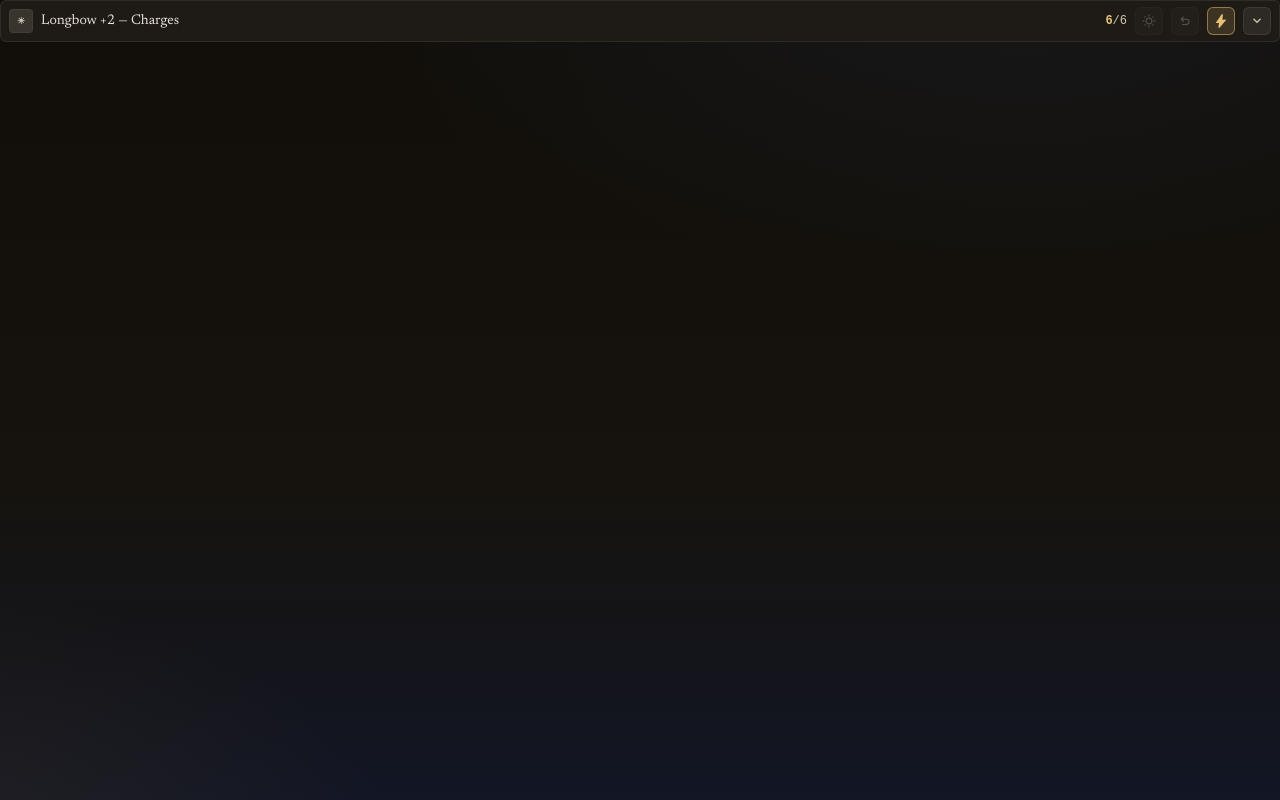
Test: CompactResourceRow with an item spell › shows the item DC alongside the character's own
Step 1. Click the button named "toggle details" → (1257, 21), box [1243, 7, 1271, 35]
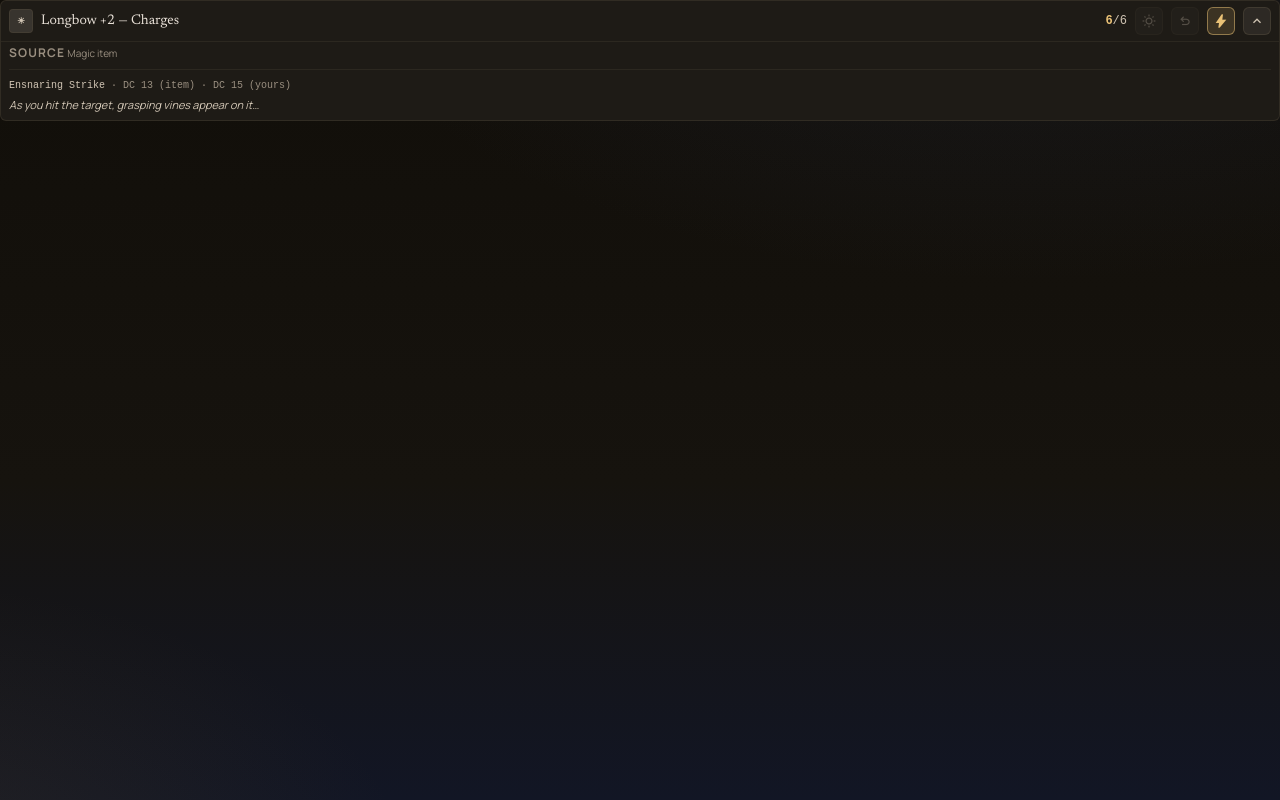
Check: the text "DC 13 (item) ·" is shown, box [123, 80, 213, 91]
Check: the text "DC 15 (yours)" is shown, box [213, 80, 291, 91]
